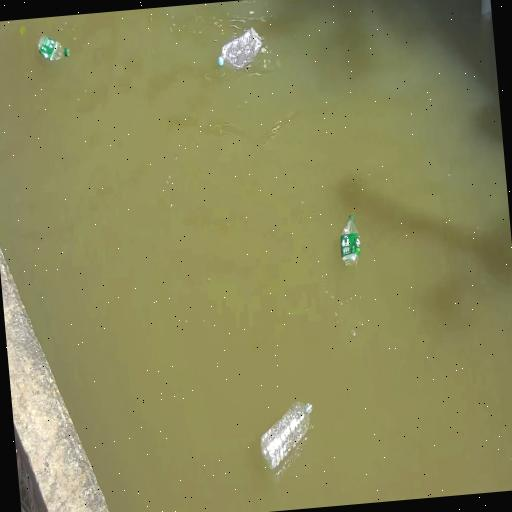plastic: (260, 402, 311, 469), (218, 27, 261, 69), (340, 216, 359, 266), (38, 36, 69, 60)
